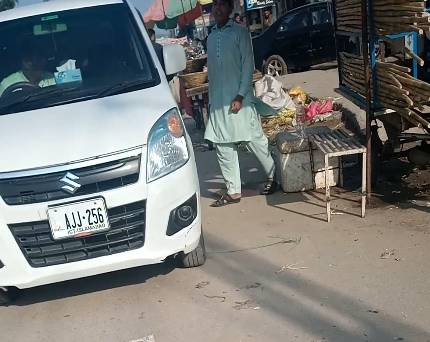number_plate: (45, 197, 113, 238)
